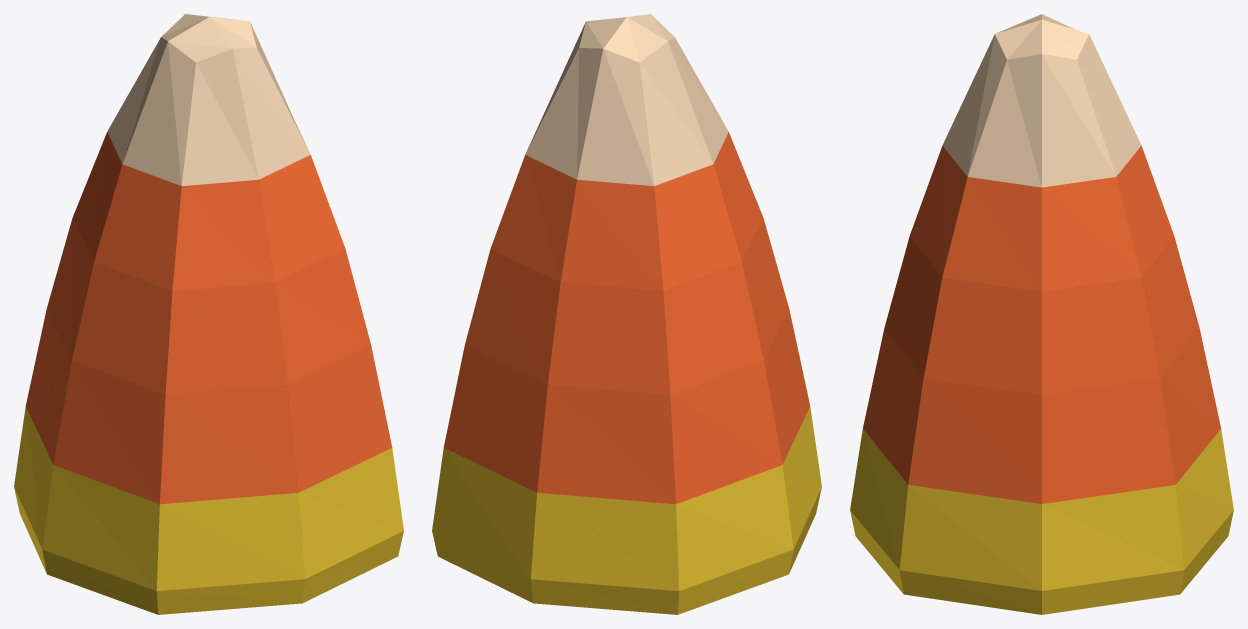
File: candy corn.gltf
3 renders of one model, left to right at view 1: azimuth 30°, elevation 25°; view 2: azimuth 150°, elevation 25°; view 3: azimuth 270°, elevation 25°, orthographic.
Visible parts, largest first — view 1: node-0; view 2: node-0; view 3: node-0.
Boxes of the visible parts, x1,y1,x2,y2 form: node-0: (14, 14, 403, 614); node-0: (432, 14, 821, 614); node-0: (850, 14, 1233, 614).
Size of the model in its own units: 1.2 by 1.78 by 1.2.
